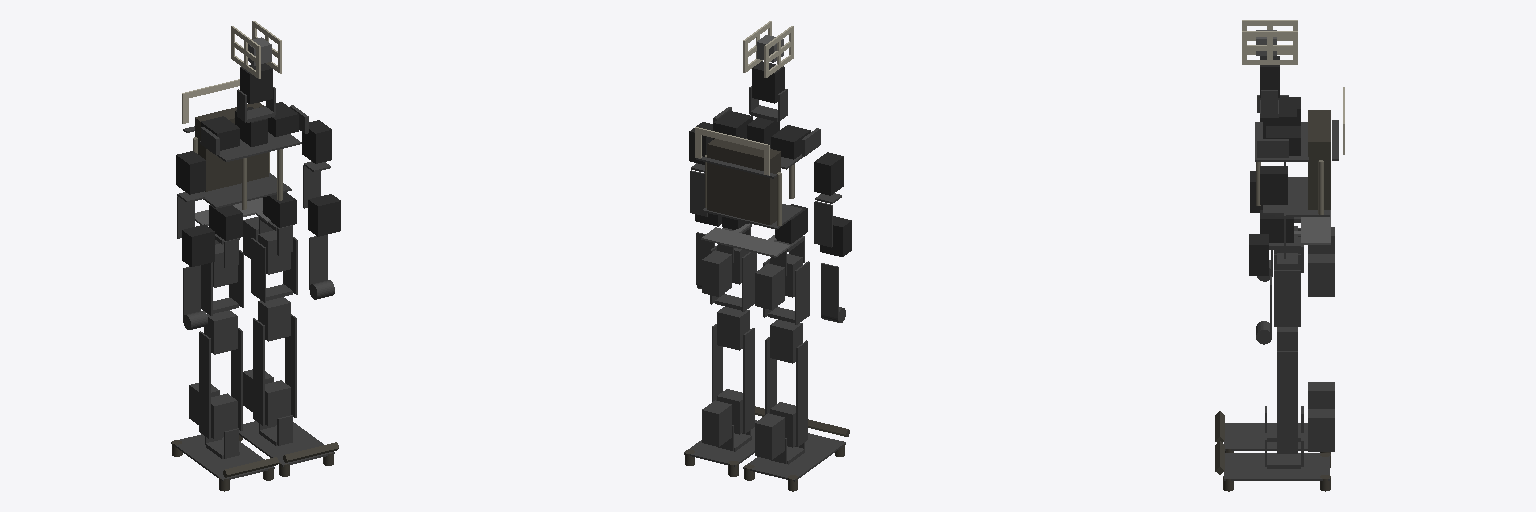
--- What the picture shows (computed from the rendered views, not written in the file) ---
3 views of the same robot in one strip: view 1: azimuth 30°, elevation 25°; view 2: azimuth 150°, elevation 25°; view 3: azimuth 270°, elevation 25° (orthographic).
Model onshape with 27 links and 26 joints (20 revolute, 6 floating), rooted at tronc, posed every joint at zero.
Visible links, largest first — view 1: tronc, right_foot_cleat_back_left, left_foot_cleat_front_right, left_knee_1, head_1, right_knee_1, left_radius_1, right_radius_1, tibia_2, tibia_1, right_humerus_1, left_humerus_1 (+6 smaller); view 2: tronc, right_foot_cleat_back_left, head_1, right_knee_1, left_knee_1, right_humerus_1, tibia_1, right_radius_1, tibia_2, mx106_block_1, mx106_block_mir_2, left_foot_cleat_front_right (+5 smaller); view 3: tronc, left_foot_cleat_front_right, head_1, tibia_2, left_knee_1, right_foot_cleat_back_left, mx106_block_2, left_humerus_1, left_radius_1, mx106_block_mir_2, mx106_block_1, u_shoulder_1.
Boxes of the visible links, <box> form: tronc: <box>182,79,301,240</box>; right_foot_cleat_back_left: <box>171,428,278,491</box>; left_foot_cleat_front_right: <box>239,415,338,476</box>; left_knee_1: <box>251,237,297,341</box>; head_1: <box>231,21,281,103</box>; right_knee_1: <box>201,250,243,354</box>; left_radius_1: <box>308,194,340,299</box>; right_radius_1: <box>182,224,214,329</box>; tibia_2: <box>253,314,296,425</box>; tibia_1: <box>199,328,242,438</box>; right_humerus_1: <box>176,151,205,238</box>; left_humerus_1: <box>302,120,331,208</box>; tronc: <box>695,111,810,257</box>; right_foot_cleat_back_left: <box>743,419,849,491</box>; head_1: <box>743,21,793,103</box>; right_knee_1: <box>763,258,809,363</box>; left_knee_1: <box>710,245,756,350</box>; right_humerus_1: <box>814,152,843,247</box>; tibia_1: <box>765,337,807,446</box>; right_radius_1: <box>820,216,851,322</box>; tibia_2: <box>712,324,754,433</box>; mx106_block_1: <box>755,402,795,459</box>; mx106_block_mir_2: <box>702,389,742,446</box>; left_foot_cleat_front_right: <box>684,406,764,476</box>; tronc: <box>1255,87,1344,244</box>; left_foot_cleat_front_right: <box>1215,433,1330,491</box>; head_1: <box>1242,20,1297,97</box>; tibia_2: <box>1277,351,1297,453</box>; left_knee_1: <box>1274,254,1300,350</box>; right_foot_cleat_back_left: <box>1215,406,1330,453</box>; mx106_block_2: <box>1277,253,1334,296</box>; left_humerus_1: <box>1260,166,1287,258</box>; left_radius_1: <box>1249,234,1271,344</box>; mx106_block_mir_2: <box>1308,409,1334,451</box>; mx106_block_1: <box>1308,382,1334,408</box>; u_shoulder_1: <box>1257,139,1288,157</box>.
Bounding box of the posed robot: 0.2576 × 0.1902 × 0.7061 m (x, y, z).
Geometry: primitives only (box / cylinder / sphere), no mesh files.

robot.urdf — onshape:
<robot name="onshape">
<link name="tronc">
<collision>
<origin xyz="-0.031 -0.054127 0.0909" rpy="1.80079e-24 -1.48609e-23 8.63328e-14" />
<geometry>
<cylinder length="0.086" radius="0.004" />
</geometry>
</collision>
<visual>
<origin xyz="-0.031 -0.054127 0.0909" rpy="1.80079e-24 -1.48609e-23 8.63328e-14" />
<geometry>
<cylinder length="0.086" radius="0.004" />
</geometry>
<material name="pillar_tube_material">
<color rgba="0.501961 0.486275 0.439216 1.0"/>
</material>
</visual>
<collision>
<origin xyz="-0.046375 -0.026254 0.02" rpy="3.14159 1.48613e-23 -3.14159" />
<geometry>
<box size="0.029 0.05 0.04" />
</geometry>
</collision>
<visual>
<origin xyz="-0.046375 -0.026254 0.02" rpy="3.14159 1.48613e-23 -3.14159" />
<geometry>
<box size="0.029 0.05 0.04" />
</geometry>
<material name="mx64_material">
<color rgba="0.211765 0.211765 0.211765 1.0"/>
</material>
</visual>
<collision>
<origin xyz="0.05 -0.017127 0.1609" rpy="-3.14159 -1.5708 0" />
<geometry>
<box size="0.029 0.05 0.04" />
</geometry>
</collision>
<visual>
<origin xyz="0.05 -0.017127 0.1609" rpy="-3.14159 -1.5708 0" />
<geometry>
<box size="0.029 0.05 0.04" />
</geometry>
<material name="mx64_material">
<color rgba="0.211765 0.211765 0.211765 1.0"/>
</material>
</visual>
<collision>
<origin xyz="0.046375 -0.026254 0.02" rpy="3.14159 1.48609e-23 -3.14159" />
<geometry>
<box size="0.029 0.05 0.04" />
</geometry>
</collision>
<visual>
<origin xyz="0.046375 -0.026254 0.02" rpy="3.14159 1.48609e-23 -3.14159" />
<geometry>
<box size="0.029 0.05 0.04" />
</geometry>
<material name="mx64_material">
<color rgba="0.211765 0.211765 0.211765 1.0"/>
</material>
</visual>
<collision>
<origin xyz="7.29591e-15 0.071323 0.1899" rpy="1.5708 1.5708 0" />
<geometry>
<box size="0.01 0.13 0.003" />
</geometry>
</collision>
<collision>
<origin xyz="-0.06 0.071323 0.1649" rpy="1.5708 1.5708 0" />
<geometry>
<box size="0.04 0.01 0.003" />
</geometry>
</collision>
<collision>
<origin xyz="0.06 0.071323 0.1649" rpy="1.5708 1.5708 0" />
<geometry>
<box size="0.04 0.01 0.003" />
</geometry>
</collision>
<visual>
<origin xyz="7.29591e-15 0.071323 0.1899" rpy="1.5708 1.5708 0" />
<geometry>
<box size="0.01 0.13 0.003" />
</geometry>
<material name="handle_material">
<color rgba="0.701961 0.682353 0.623529 1.0"/>
</material>
</visual>
<visual>
<origin xyz="-0.06 0.071323 0.1649" rpy="1.5708 1.5708 0" />
<geometry>
<box size="0.04 0.01 0.003" />
</geometry>
<material name="handle_material">
<color rgba="0.701961 0.682353 0.623529 1.0"/>
</material>
</visual>
<visual>
<origin xyz="0.06 0.071323 0.1649" rpy="1.5708 1.5708 0" />
<geometry>
<box size="0.04 0.01 0.003" />
</geometry>
<material name="handle_material">
<color rgba="0.701961 0.682353 0.623529 1.0"/>
</material>
</visual>
<collision>
<origin xyz="0.0625 0.037873 0.0909" rpy="-3.14159 -1.48609e-23 8.63328e-14" />
<geometry>
<cylinder length="0.086" radius="0.004" />
</geometry>
</collision>
<visual>
<origin xyz="0.0625 0.037873 0.0909" rpy="-3.14159 -1.48609e-23 8.63328e-14" />
<geometry>
<cylinder length="0.086" radius="0.004" />
</geometry>
<material name="pillar_tube_material">
<color rgba="0.501961 0.486275 0.439216 1.0"/>
</material>
</visual>
<collision>
<origin xyz="-0.0505868 -0.017127 0.1609" rpy="3.14159 1.5708 0" />
<geometry>
<box size="0.029 0.05 0.04" />
</geometry>
</collision>
<visual>
<origin xyz="-0.0505868 -0.017127 0.1609" rpy="3.14159 1.5708 0" />
<geometry>
<box size="0.029 0.05 0.04" />
</geometry>
<material name="mx64_material">
<color rgba="0.211765 0.211765 0.211765 1.0"/>
</material>
</visual>
<collision>
<origin xyz="1.52206e-14 -0.019127 0.1354" rpy="3.14159 1.48609e-23 -3.14159" />
<geometry>
<box size="0.13 0.08 0.003" />
</geometry>
</collision>
<visual>
<origin xyz="1.52206e-14 -0.019127 0.1354" rpy="3.14159 1.48609e-23 -3.14159" />
<geometry>
<box size="0.13 0.08 0.003" />
</geometry>
<material name="torso_top_plate_nuc_material">
<color rgba="0.301961 0.301961 0.301961 1.0"/>
</material>
</visual>
<collision>
<origin xyz="1.27053e-14 0.010373 0.0469" rpy="1.78736e-24 -1.48609e-23 8.63328e-14" />
<geometry>
<box size="0.13 0.08 0.003" />
</geometry>
</collision>
<visual>
<origin xyz="1.27053e-14 0.010373 0.0469" rpy="1.78736e-24 -1.48609e-23 8.63328e-14" />
<geometry>
<box size="0.13 0.08 0.003" />
</geometry>
<material name="torso_middle_plate_nuc_material">
<color rgba="0.301961 0.301961 0.301961 1.0"/>
</material>
</visual>
<collision>
<origin xyz="-0.0625 0.037873 0.0909" rpy="1.80079e-24 -1.48609e-23 8.63328e-14" />
<geometry>
<cylinder length="0.086" radius="0.004" />
</geometry>
</collision>
<visual>
<origin xyz="-0.0625 0.037873 0.0909" rpy="1.80079e-24 -1.48609e-23 8.63328e-14" />
<geometry>
<cylinder length="0.086" radius="0.004" />
</geometry>
<material name="pillar_tube_material">
<color rgba="0.501961 0.486275 0.439216 1.0"/>
</material>
</visual>
<collision>
<origin xyz="1.24036e-14 0.035873 0.10615" rpy="1.5708 1.48609e-23 -3.14159" />
<geometry>
<box size="0.11 0.11 0.033" />
</geometry>
</collision>
<visual>
<origin xyz="1.24036e-14 0.035873 0.10615" rpy="1.5708 1.48609e-23 -3.14159" />
<geometry>
<box size="0.11 0.11 0.033" />
</geometry>
<material name="nuc_material">
<color rgba="0.301961 0.290196 0.262745 1.0"/>
</material>
</visual>
<collision>
<origin xyz="2.07506e-14 0.031123 0.00149996" rpy="-1.88432e-18 -5.37577e-17 8.62212e-14" />
<geometry>
<box size="0.13 0.044 0.003" />
</geometry>
</collision>
<collision>
<origin xyz="-0.03 -0.007877 0.00149996" rpy="-1.88432e-18 -5.37577e-17 8.62212e-14" />
<geometry>
<box size="0.01 0.035 0.003" />
</geometry>
</collision>
<collision>
<origin xyz="0.03 -0.007877 0.00149996" rpy="-1.88432e-18 -5.37577e-17 8.62212e-14" />
<geometry>
<box size="0.01 0.035 0.003" />
</geometry>
</collision>
<visual>
<origin xyz="2.07506e-14 0.031123 0.00149996" rpy="-1.88432e-18 -5.37577e-17 8.62212e-14" />
<geometry>
<box size="0.13 0.044 0.003" />
</geometry>
<material name="torso_bottom_plate_nuc_material">
<color rgba="0.4 0.4 0.4 1.0"/>
</material>
</visual>
<visual>
<origin xyz="-0.03 -0.007877 0.00149996" rpy="-1.88432e-18 -5.37577e-17 8.62212e-14" />
<geometry>
<box size="0.01 0.035 0.003" />
</geometry>
<material name="torso_bottom_plate_nuc_material">
<color rgba="0.4 0.4 0.4 1.0"/>
</material>
</visual>
<visual>
<origin xyz="0.03 -0.007877 0.00149996" rpy="-1.88432e-18 -5.37577e-17 8.62212e-14" />
<geometry>
<box size="0.01 0.035 0.003" />
</geometry>
<material name="torso_bottom_plate_nuc_material">
<color rgba="0.4 0.4 0.4 1.0"/>
</material>
</visual>
<collision>
<origin xyz="8.35455e-15 0.059373 0.1384" rpy="-3.14159 1.79405e-24 -1.5708" />
<geometry>
<box size="0.01 0.135 0.003" />
</geometry>
</collision>
<visual>
<origin xyz="8.35455e-15 0.059373 0.1384" rpy="-3.14159 1.79405e-24 -1.5708" />
<geometry>
<box size="0.01 0.135 0.003" />
</geometry>
<material name="nuc_fix_material">
<color rgba="0.301961 0.301961 0.301961 1.0"/>
</material>
</visual>
<collision>
<origin xyz="2.55418e-14 -0.022127 0.1623" rpy="1.12133e-14 -2.28241e-15 -3.14159" />
<geometry>
<box size="0.029 0.05 0.04" />
</geometry>
</collision>
<visual>
<origin xyz="2.55418e-14 -0.022127 0.1623" rpy="1.12133e-14 -2.28241e-15 -3.14159" />
<geometry>
<box size="0.029 0.05 0.04" />
</geometry>
<material name="mx64_material">
<color rgba="0.211765 0.211765 0.211765 1.0"/>
</material>
</visual>
<collision>
<origin xyz="0.031 -0.054127 0.0914" rpy="1.80079e-24 -1.48609e-23 8.63328e-14" />
<geometry>
<cylinder length="0.086" radius="0.004" />
</geometry>
</collision>
<visual>
<origin xyz="0.031 -0.054127 0.0914" rpy="1.80079e-24 -1.48609e-23 8.63328e-14" />
<geometry>
<cylinder length="0.086" radius="0.004" />
</geometry>
<material name="pillar_tube_material">
<color rgba="0.501961 0.486275 0.439216 1.0"/>
</material>
</visual>
<inertial>
<origin xyz="0.000185565 0.00052958 0.0922428" rpy="0 0 0"/>
<mass value="1.75912" />
<inertia ixx="0.00823896" ixy="2.57494e-06"  ixz="1.9734e-05" iyy="0.00915867" iyz="-0.000169433" izz="0.00511156" />
</inertial>
</link>

<link name="trunk">
<inertial>
<origin xyz="0 0 0" rpy="0 0 0" />
<mass value="1e-9" />
<inertia ixx="0" ixy="0" ixz="0" iyy="0" iyz="0" izz="0" />
</inertial>
</link>
<joint name="trunk_frame" type="floating">
<origin xyz="2.43796e-14 -0.011254 -0.0435" rpy="-5.7251e-17 -1.88432e-18 -1.5708" />
<parent link="tronc" />
<child link="trunk" />
<axis xyz="0 0 0"/>
</joint>

<link name="head_base">
<inertial>
<origin xyz="0 0 0" rpy="0 0 0" />
<mass value="1e-9" />
<inertia ixx="0" ixy="0" ixz="0" iyy="0" iyz="0" izz="0" />
</inertial>
</link>
<joint name="head_base_frame" type="floating">
<origin xyz="2.67832e-14 -0.037127 0.1858" rpy="2.77556e-17 1.38778e-17 -1.5708" />
<parent link="tronc" />
<child link="head_base" />
<axis xyz="0 0 0"/>
</joint>

<link name="u_block_1">
<collision>
<origin xyz="-0.00494 0 0.003" rpy="-7.30373e-33 3.5853e-41 -3.12137e-42" />
<geometry>
<box size="0.05 0.03 0.006" />
</geometry>
</collision>
<visual>
<origin xyz="-0.00494 0 0.003" rpy="-7.30373e-33 3.5853e-41 -3.12137e-42" />
<geometry>
<box size="0.05 0.03 0.006" />
</geometry>
<material name="u_base_motors_blocs_material">
<color rgba="0.301961 0.301961 0.301961 1.0"/>
</material>
</visual>
<collision>
<origin xyz="-0.03144 3.46945e-17 0.023" rpy="1.5708 -9.35682e-17 1.5708" />
<geometry>
<box size="0.025 0.044 0.003" />
</geometry>
</collision>
<visual>
<origin xyz="-0.03144 3.46945e-17 0.023" rpy="1.5708 -9.35682e-17 1.5708" />
<geometry>
<box size="0.025 0.044 0.003" />
</geometry>
<material name="u_side_small_material">
<color rgba="0.301961 0.301961 0.301961 1.0"/>
</material>
</visual>
<collision>
<origin xyz="0.0219 -4.33681e-17 0.023" rpy="1.5708 -3.9526e-17 -1.5708" />
<geometry>
<box size="0.027 0.042 0.003" />
</geometry>
</collision>
<visual>
<origin xyz="0.0219 -4.33681e-17 0.023" rpy="1.5708 -3.9526e-17 -1.5708" />
<geometry>
<box size="0.027 0.042 0.003" />
</geometry>
<material name="u_side_small_with_trace_material">
<color rgba="0.301961 0.301961 0.301961 1.0"/>
</material>
</visual>
<inertial>
<origin xyz="-0.00607049 2.12569e-09 0.0117654" rpy="0 0 0"/>
<mass value="0.0354404" />
<inertia ixx="6.0236e-06" ixy="-2.05966e-08"  ixz="7.97442e-07" iyy="2.4343e-05" iyz="-8.88603e-13" izz="2.1328e-05" />
</inertial>
</link>

<link name="mx106_block_mir_1">
<collision>
<origin xyz="-1.72422e-14 -0.015 0.0234" rpy="2.89425e-13 -1.5708 0" />
<geometry>
<box size="0.03 0.055 0.04" />
</geometry>
</collision>
<visual>
<origin xyz="-1.72422e-14 -0.015 0.0234" rpy="2.89425e-13 -1.5708 0" />
<geometry>
<box size="0.03 0.055 0.04" />
</geometry>
<material name="mx106_material">
<color rgba="0.301961 0.301961 0.301961 1.0"/>
</material>
</visual>
<collision>
<origin xyz="2.74835e-31 -0.015 -0.026" rpy="-1.68105e-40 3.81268e-29 -1.37931e-29" />
<geometry>
<box size="0.03 0.055 0.04" />
</geometry>
</collision>
<visual>
<origin xyz="2.74835e-31 -0.015 -0.026" rpy="-1.68105e-40 3.81268e-29 -1.37931e-29" />
<geometry>
<box size="0.03 0.055 0.04" />
</geometry>
<material name="mx106_material">
<color rgba="0.301961 0.301961 0.301961 1.0"/>
</material>
</visual>
<inertial>
<origin xyz="-0.000304417 -0.018098 0.00391715" rpy="0 0 0"/>
<mass value="0.427481" />
<inertia ixx="0.000482208" ixy="-1.57792e-05"  ixz="3.50396e-06" iyy="0.000408392" iyz="-3.68837e-05" izz="0.000203671" />
</inertial>
</link>

<link name="right_knee_1">
<collision>
<origin xyz="1.04229e-16 -0.0395 0.0535" rpy="4.996e-16 -2.77556e-16 1.32533e-15" />
<geometry>
<box size="0.04 0.09 0.003" />
</geometry>
</collision>
<visual>
<origin xyz="1.04229e-16 -0.0395 0.0535" rpy="4.996e-16 -2.77556e-16 1.32533e-15" />
<geometry>
<box size="0.04 0.09 0.003" />
</geometry>
<material name="u_side_femur_mir_material">
<color rgba="0.301961 0.301961 0.301961 1.0"/>
</material>
</visual>
<collision>
<origin xyz="2.53143e-14 -0.125 0.026" rpy="-3.14159 -1.81887e-16 4.5397e-13" />
<geometry>
<box size="0.03 0.055 0.04" />
</geometry>
</collision>
<visual>
<origin xyz="2.53143e-14 -0.125 0.026" rpy="-3.14159 -1.81887e-16 4.5397e-13" />
<geometry>
<box size="0.03 0.055 0.04" />
</geometry>
<material name="mx106_material">
<color rgba="0.301961 0.301961 0.301961 1.0"/>
</material>
</visual>
<collision>
<origin xyz="4.15808e-32 -0.0395 -0.0015" rpy="-3.64812e-34 3.52046e-29 -2.74809e-32" />
<geometry>
<box size="0.04 0.09 0.003" />
</geometry>
</collision>
<visual>
<origin xyz="4.15808e-32 -0.0395 -0.0015" rpy="-3.64812e-34 3.52046e-29 -2.74809e-32" />
<geometry>
<box size="0.04 0.09 0.003" />
</geometry>
<material name="u_side_femur_material">
<color rgba="0.301961 0.301961 0.301961 1.0"/>
</material>
</visual>
<collision>
<origin xyz="3.71606e-16 -0.0825 0.026" rpy="-1.5708 1.5708 0" />
<geometry>
<box size="0.047 0.0275 0.006" />
</geometry>
</collision>
<visual>
<origin xyz="3.71606e-16 -0.0825 0.026" rpy="-1.5708 1.5708 0" />
<geometry>
<box size="0.047 0.0275 0.006" />
</geometry>
<material name="u_base_64_material">
<color rgba="0.301961 0.301961 0.301961 1.0"/>
</material>
</visual>
<inertial>
<origin xyz="0.000224336 -0.0980339 0.0257133" rpy="0 0 0"/>
<mass value="0.269758" />
<inertia ixx="0.000503595" ixy="9.05865e-07"  ixz="-4.56779e-07" iyy="0.000109941" iyz="-5.72119e-06" izz="0.000438644" />
</inertial>
</link>

<link name="tibia_1">
<collision>
<origin xyz="-1.50984e-32 -0.067 0.0015" rpy="0 2.39826e-29 0" />
<geometry>
<box size="0.03 0.165 0.003" />
</geometry>
</collision>
<visual>
<origin xyz="-1.50984e-32 -0.067 0.0015" rpy="0 2.39826e-29 0" />
<geometry>
<box size="0.03 0.165 0.003" />
</geometry>
<material name="tibia_plate_material">
<color rgba="0.301961 0.301961 0.301961 1.0"/>
</material>
</visual>
<collision>
<origin xyz="5.06057e-18 -0.067 -0.0535" rpy="1.66533e-15 3.60822e-16 -1.11022e-16" />
<geometry>
<box size="0.03 0.165 0.003" />
</geometry>
</collision>
<visual>
<origin xyz="5.06057e-18 -0.067 -0.0535" rpy="1.66533e-15 3.60822e-16 -1.11022e-16" />
<geometry>
<box size="0.03 0.165 0.003" />
</geometry>
<material name="tibia_plate_material">
<color rgba="0.301961 0.301961 0.301961 1.0"/>
</material>
</visual>
<inertial>
<origin xyz="-0.00342169 -0.0646068 -0.026" rpy="0 0 0"/>
<mass value="0.0888437" />
<inertia ixx="0.000245247" ixy="6.12719e-06"  ixz="-1.44286e-11" iyy="7.67255e-05" iyz="3.8066e-11" izz="0.000187463" />
</inertial>
</link>

<link name="mx106_block_1">
<collision>
<origin xyz="1.63291e-31 -0.015 -0.026" rpy="4.45602e-32 -1.04974e-29 -5.28557e-30" />
<geometry>
<box size="0.03 0.055 0.04" />
</geometry>
</collision>
<visual>
<origin xyz="1.63291e-31 -0.015 -0.026" rpy="4.45602e-32 -1.04974e-29 -5.28557e-30" />
<geometry>
<box size="0.03 0.055 0.04" />
</geometry>
<material name="mx106_material">
<color rgba="0.301961 0.301961 0.301961 1.0"/>
</material>
</visual>
<collision>
<origin xyz="0.0494 -0.015 -0.026" rpy="7.80481e-16 -1.5708 0" />
<geometry>
<box size="0.03 0.055 0.04" />
</geometry>
</collision>
<visual>
<origin xyz="0.0494 -0.015 -0.026" rpy="7.80481e-16 -1.5708 0" />
<geometry>
<box size="0.03 0.055 0.04" />
</geometry>
<material name="mx106_material">
<color rgba="0.301961 0.301961 0.301961 1.0"/>
</material>
</visual>
<inertial>
<origin xyz="0.0195884 -0.018098 -0.0258252" rpy="0 0 0"/>
<mass value="0.427481" />
<inertia ixx="0.000194682" ixy="1.88861e-05"  ixz="4.22317e-07" iyy="0.000410191" iyz="-2.22493e-06" izz="0.000485925" />
</inertial>
</link>

<link name="right_foot_cleat_back_left">
<collision>
<origin xyz="-0.0435 -0.05 -0.03213" rpy="-1.5708 0.199727 3.14159" />
<geometry>
<cylinder length="0.02" radius="0.008" />
</geometry>
</collision>
<visual>
<origin xyz="-0.0435 -0.05 -0.03213" rpy="-1.5708 0.199727 3.14159" />
<geometry>
<cylinder length="0.02" radius="0.008" />
</geometry>
<material name="cleat_material">
<color rgba="0.301961 0.290196 0.262745 1.0"/>
</material>
</visual>
<collision>
<origin xyz="-0.0435 -0.05 0.10947" rpy="-1.5708 0.199727 3.14159" />
<geometry>
<cylinder length="0.02" radius="0.008" />
</geometry>
</collision>
<visual>
<origin xyz="-0.0435 -0.05 0.10947" rpy="-1.5708 0.199727 3.14159" />
<geometry>
<cylinder length="0.02" radius="0.008" />
</geometry>
<material name="cleat_material">
<color rgba="0.301961 0.290196 0.262745 1.0"/>
</material>
</visual>
<collision>
<origin xyz="6.76542e-17 -0.017 0.05484" rpy="-3.14159 -2.42855e-17 3.14159" />
<geometry>
<box size="0.025 0.044 0.003" />
</geometry>
</collision>
<visual>
<origin xyz="6.76542e-17 -0.017 0.05484" rpy="-3.14159 -2.42855e-17 3.14159" />
<geometry>
<box size="0.025 0.044 0.003" />
</geometry>
<material name="u_side_small_material">
<color rgba="0.301961 0.301961 0.301961 1.0"/>
</material>
</visual>
<collision>
<origin xyz="0.0325 -0.05 0.10947" rpy="1.5708 0.555221 -2.37021e-15" />
<geometry>
<cylinder length="0.02" radius="0.008" />
</geometry>
</collision>
<visual>
<origin xyz="0.0325 -0.05 0.10947" rpy="1.5708 0.555221 -2.37021e-15" />
<geometry>
<cylinder length="0.02" radius="0.008" />
</geometry>
<material name="cleat_material">
<color rgba="0.301961 0.290196 0.262745 1.0"/>
</material>
</visual>
<collision>
<origin xyz="-0.0055 -0.0415 0.03867" rpy="1.5708 -2.34865e-17 3.14159" />
<geometry>
<box size="0.09 0.155 0.003" />
</geometry>
</collision>
<visual>
<origin xyz="-0.0055 -0.0415 0.03867" rpy="1.5708 -2.34865e-17 3.14159" />
<geometry>
<box size="0.09 0.155 0.003" />
</geometry>
<material name="foot_plate_material">
<color rgba="0.301961 0.301961 0.301961 1.0"/>
</material>
</visual>
<collision>
<origin xyz="6.93889e-18 -0.017 0.0015" rpy="-1.36882e-30 1.1038e-29 2.36811e-31" />
<geometry>
<box size="0.027 0.042 0.003" />
</geometry>
</collision>
<visual>
<origin xyz="6.93889e-18 -0.017 0.0015" rpy="-1.36882e-30 1.1038e-29 2.36811e-31" />
<geometry>
<box size="0.027 0.042 0.003" />
</geometry>
<material name="u_side_small_with_trace_material">
<color rgba="0.301961 0.301961 0.301961 1.0"/>
</material>
</visual>
<collision>
<origin xyz="0.0325 -0.05 -0.03213" rpy="1.5708 -0.311457 -2.11626e-15" />
<geometry>
<cylinder length="0.02" radius="0.008" />
</geometry>
</collision>
<visual>
<origin xyz="0.0325 -0.05 -0.03213" rpy="1.5708 -0.311457 -2.11626e-15" />
<geometry>
<cylinder length="0.02" radius="0.008" />
</geometry>
<material name="cleat_material">
<color rgba="0.301961 0.290196 0.262745 1.0"/>
</material>
</visual>
<collision>
<origin xyz="-0.0055 -0.0275 0.12247" rpy="3.14159 0.785398 -1.5708" />
<geometry>
<box size="0.01 0.09 0.01" />
</geometry>
</collision>
<visual>
<origin xyz="-0.0055 -0.0275 0.12247" rpy="3.14159 0.785398 -1.5708" />
<geometry>
<box size="0.01 0.09 0.01" />
</geometry>
<material name="foot_protection_material">
<color rgba="0.301961 0.290196 0.262745 1.0"/>
</material>
</visual>
<collision>
<origin xyz="1.73472e-17 -0.037 0.02834" rpy="-1.5708 1.5708 0" />
<geometry>
<box size="0.05 0.03 0.006" />
</geometry>
</collision>
<visual>
<origin xyz="1.73472e-17 -0.037 0.02834" rpy="-1.5708 1.5708 0" />
<geometry>
<box size="0.05 0.03 0.006" />
</geometry>
<material name="u_base_motors_blocs_material">
<color rgba="0.301961 0.301961 0.301961 1.0"/>
</material>
</visual>
<inertial>
<origin xyz="-0.00468466 -0.0365779 0.0511529" rpy="0 0 0"/>
<mass value="0.239067" />
<inertia ixx="0.000644736" ixy="-2.73076e-06"  ixz="4.22638e-06" iyy="0.000780875" iyz="-2.65367e-05" izz="0.000195711" />
</inertial>
</link>

<link name="right_foot">
<inertial>
<origin xyz="0 0 0" rpy="0 0 0" />
<mass value="1e-9" />
<inertia ixx="0" ixy="0" ixz="0" iyy="0" iyz="0" izz="0" />
</inertial>
</link>
<joint name="right_foot_frame" type="floating">
<origin xyz="-5.55112e-17 -0.06 0.02317" rpy="-1.5708 -1.5708 0" />
<parent link="right_foot_cleat_back_left" />
<child link="right_foot" />
<axis xyz="0 0 0"/>
</joint>

<joint name="right_ankle_roll" type="revolute">
<origin xyz="0.0234 -4.55191e-15 -0.026" rpy="3.14159 1.5708 0" />
<parent link="mx106_block_1" />
<child link="right_foot_cleat_back_left" />
<axis xyz="-0 -0 1"/>
<limit effort="10" velocity="6" />
<joint_properties friction="0.0"/>
</joint>

<joint name="right_ankle_pitch" type="revolute">
<origin xyz="1.38778e-17 -0.14 0" rpy="-1.83187e-15 -2.77556e-16 3.14159" />
<parent link="tibia_1" />
<child link="mx106_block_1" />
<axis xyz="-0 -0 -1"/>
<limit effort="10" velocity="6" />
<joint_properties friction="0.0"/>
</joint>

<joint name="right_knee" type="revolute">
<origin xyz="3.21514e-14 -0.14 3.60822e-16" rpy="3.14159 -3.36029e-16 -3.14159" />
<parent link="right_knee_1" />
<child link="tibia_1" />
<axis xyz="0 0 -1"/>
<limit effort="10" velocity="6" />
<joint_properties friction="0.0"/>
</joint>

<joint name="right_hip_pitch" type="revolute">
<origin xyz="-0.026 -1.04222e-14 0.0234" rpy="-2.8919e-13 1.5708 0" />
<parent link="mx106_block_mir_1" />
<child link="right_knee_1" />
<axis xyz="0 0 1"/>
<limit effort="10" velocity="6" />
<joint_properties friction="0.0"/>
</joint>

<joint name="right_hip_roll" type="revolute">
<origin xyz="0.0234 -3.46945e-17 0.04" rpy="-1.5708 -2.89657e-13 1.5708" />
<parent link="u_block_1" />
<child link="mx106_block_mir_1" />
<axis xyz="0 0 1"/>
<limit effort="10" velocity="6" />
<joint_properties friction="0.0"/>
</joint>

<joint name="right_hip_yaw" type="revolute">
<origin xyz="-0.046375 -0.011254 -0.00350004" rpy="3.14159 -1.79404e-24 1.5708" />
<parent link="tronc" />
<child link="u_block_1" />
<axis xyz="0 0 -1"/>
<limit effort="10" velocity="6" />
<joint_properties friction="0.0"/>
</joint>

<link name="u_block_2">
<collision>
<origin xyz="-0.00494 -6.93889e-18 0.003" rpy="1.37852e-32 -3.18039e-32 -6.12454e-30" />
<geometry>
<box size="0.05 0.03 0.006" />
</geometry>
</collision>
<visual>
<origin xyz="-0.00494 -6.93889e-18 0.003" rpy="1.37852e-32 -3.18039e-32 -6.12454e-30" />
<geometry>
<box size="0.05 0.03 0.006" />
</geometry>
<material name="u_base_motors_blocs_material">
<color rgba="0.301961 0.301961 0.301961 1.0"/>
</material>
</visual>
<collision>
<origin xyz="0.0219 -5.20417e-18 0.023" rpy="1.5708 1.91186e-17 -1.5708" />
<geometry>
<box size="0.027 0.042 0.003" />
</geometry>
</collision>
<visual>
<origin xyz="0.0219 -5.20417e-18 0.023" rpy="1.5708 1.91186e-17 -1.5708" />
<geometry>
<box size="0.027 0.042 0.003" />
</geometry>
<material name="u_side_small_with_trace_material">
<color rgba="0.301961 0.301961 0.301961 1.0"/>
</material>
</visual>
<collision>
<origin xyz="-0.03144 -6.93889e-18 0.023" rpy="1.5708 6.60998e-17 1.5708" />
<geometry>
<box size="0.025 0.044 0.003" />
</geometry>
</collision>
<visual>
<origin xyz="-0.03144 -6.93889e-18 0.023" rpy="1.5708 6.60998e-17 1.5708" />
<geometry>
<box size="0.025 0.044 0.003" />
</geometry>
<material name="u_side_small_material">
<color rgba="0.301961 0.301961 0.301961 1.0"/>
</material>
</visual>
<inertial>
<origin xyz="-0.00607049 2.12569e-09 0.0117654" rpy="0 0 0"/>
<mass value="0.0354404" />
<inertia ixx="6.0236e-06" ixy="-2.05966e-08"  ixz="7.97442e-07" iyy="2.4343e-05" iyz="-8.88603e-13" izz="2.1328e-05" />
</inertial>
</link>

<link name="mx106_block_2">
<collision>
<origin xyz="-6.93889e-18 -0.015 -0.026" rpy="-3.62267e-32 -6.45673e-30 -2.33386e-29" />
<geometry>
<box size="0.03 0.055 0.04" />
</geometry>
</collision>
<visual>
<origin xyz="-6.93889e-18 -0.015 -0.026" rpy="-3.62267e-32 -6.45673e-30 -2.33386e-29" />
<geometry>
<box size="0.03 0.055 0.04" />
</geometry>
<material name="mx106_material">
<color rgba="0.301961 0.301961 0.301961 1.0"/>
</material>
</visual>
<collision>
<origin xyz="-1.72918e-14 -0.015 0.0234" rpy="-2.88049e-13 1.5708 0" />
<geometry>
<box size="0.03 0.055 0.04" />
</geometry>
</collision>
<visual>
<origin xyz="-1.72918e-14 -0.015 0.0234" rpy="-2.88049e-13 1.5708 0" />
<geometry>
<box size="0.03 0.055 0.04" />
</geometry>
<material name="mx106_material">
<color rgba="0.301961 0.301961 0.301961 1.0"/>
</material>
</visual>
<inertial>
<origin xyz="0.000174774 -0.018098 0.0038116" rpy="0 0 0"/>
<mass value="0.427481" />
<inertia ixx="0.000480875" ixy="1.44566e-05"  ixz="-4.949e-07" iyy="0.000406226" iyz="-3.86323e-05" izz="0.000203698" />
</inertial>
</link>

<link name="left_knee_1">
<collision>
<origin xyz="6.2117e-17 -0.0825 0.026" rpy="-1.5708 1.5708 0" />
<geometry>
<box size="0.047 0.0275 0.006" />
</geometry>
</collision>
<visual>
<origin xyz="6.2117e-17 -0.0825 0.026" rpy="-1.5708 1.5708 0" />
<geometry>
<box size="0.047 0.0275 0.006" />
</geometry>
<material name="u_base_64_material">
<color rgba="0.301961 0.301961 0.301961 1.0"/>
</material>
</visual>
<collision>
<origin xyz="1.73472e-18 -0.0395 -0.0015" rpy="4.35316e-32 2.13064e-30 1.27058e-31" />
<geometry>
<box size="0.04 0.09 0.003" />
</geometry>
</collision>
<visual>
<origin xyz="1.73472e-18 -0.0395 -0.0015" rpy="4.35316e-32 2.13064e-30 1.27058e-31" />
<geometry>
<box size="0.04 0.09 0.003" />
</geometry>
<material name="u_side_femur_material">
<color rgba="0.301961 0.301961 0.301961 1.0"/>
</material>
</visual>
<collision>
<origin xyz="4.36598e-17 -0.0395 0.0535" rpy="3.26957e-16 3.59516e-17 5.14922e-16" />
<geometry>
<box size="0.04 0.09 0.003" />
</geometry>
</collision>
<visual>
<origin xyz="4.36598e-17 -0.0395 0.0535" rpy="3.26957e-16 3.59516e-17 5.14922e-16" />
<geometry>
<box size="0.04 0.09 0.003" />
</geometry>
<material name="u_side_femur_mir_material">
<color rgba="0.301961 0.301961 0.301961 1.0"/>
</material>
</visual>
<collision>
<origin xyz="-2.4828e-14 -0.125 0.026" rpy="-3.14159 2.98198e-16 -4.53605e-13" />
<geometry>
<box size="0.03 0.055 0.04" />
</geometry>
</collision>
<visual>
<origin xyz="-2.4828e-14 -0.125 0.026" rpy="-3.14159 2.98198e-16 -4.53605e-13" />
<geometry>
<box size="0.03 0.055 0.04" />
</geometry>
<material name="mx106_material">
<color rgba="0.301961 0.301961 0.301961 1.0"/>
</material>
</visual>
<inertial>
<origin xyz="-5.70809e-05 -0.0980339 0.0255274" rpy="0 0 0"/>
<mass value="0.269758" />
<inertia ixx="0.000503557" ixy="1.64719e-06"  ixz="-5.01987e-07" iyy="0.000109916" iyz="-5.37384e-06" izz="0.000438656" />
</inertial>
</link>

<link name="tibia_2">
<collision>
<origin xyz="-5.58374e-31 -0.067 -0.0015" rpy="-4.50026e-32 -6.77291e-30 4.57972e-31" />
<geometry>
<box size="0.03 0.165 0.003" />
</geometry>
</collision>
<visual>
<origin xyz="-5.58374e-31 -0.067 -0.0015" rpy="-4.50026e-32 -6.77291e-30 4.57972e-31" />
<geometry>
<box size="0.03 0.165 0.003" />
</geometry>
<material name="tibia_plate_material">
<color rgba="0.301961 0.301961 0.301961 1.0"/>
</material>
</visual>
<collision>
<origin xyz="2.23209e-16 -0.067 0.0535" rpy="-9.24302e-16 1.29393e-16 -3.04496e-16" />
<geometry>
<box size="0.03 0.165 0.003" />
</geometry>
</collision>
<visual>
<origin xyz="2.23209e-16 -0.067 0.0535" rpy="-9.24302e-16 1.29393e-16 -3.04496e-16" />
<geometry>
<box size="0.03 0.165 0.003" />
</geometry>
<material name="tibia_plate_material">
<color rgba="0.301961 0.301961 0.301961 1.0"/>
</material>
</visual>
<inertial>
<origin xyz="-0.00342169 -0.0646068 0.026" rpy="0 0 0"/>
<mass value="0.0888437" />
<inertia ixx="0.000245247" ixy="6.12719e-06"  ixz="-1.44286e-11" iyy="7.67255e-05" iyz="3.8066e-11" izz="0.000187463" />
</inertial>
</link>

<link name="mx106_block_mir_2">
<collision>
<origin xyz="1.73472e-18 -0.015 -0.026" rpy="0 1.07112e-29 -5.04871e-29" />
<geometry>
<box size="0.03 0.055 0.04" />
</geometry>
</collision>
<visual>
<origin xyz="1.73472e-18 -0.015 -0.026" rpy="0 1.07112e-29 -5.04871e-29" />
<geometry>
<box size="0.03 0.055 0.04" />
</geometry>
<material name="mx106_material">
<color rgba="0.301961 0.301961 0.301961 1.0"/>
</material>
</visual>
<collision>
<origin xyz="-0.0494 -0.015 -0.026" rpy="-4.54893e-13 1.5708 0" />
<geometry>
<box size="0.03 0.055 0.04" />
</geometry>
</collision>
<visual>
<origin xyz="-0.0494 -0.015 -0.026" rpy="-4.54893e-13 1.5708 0" />
<geometry>
<box size="0.03 0.055 0.04" />
</geometry>
<material name="mx106_material">
<color rgba="0.301961 0.301961 0.301961 1.0"/>
</material>
</visual>
<inertial>
<origin xyz="-0.0194829 -0.018098 -0.0256956" rpy="0 0 0"/>
<mass value="0.427481" />
<inertia ixx="0.000194261" ixy="-2.04803e-05"  ixz="-3.71621e-06" iyy="0.000412323" iyz="-3.98084e-06" izz="0.000487688" />
</inertial>
</link>

<link name="left_foot_cleat_front_right">
<collision>
<origin xyz="0.0055 -0.0275 0.12247" rpy="-3.14159 0.785398 -1.5708" />
<geometry>
<box size="0.01 0.09 0.01" />
</geometry>
</collision>
<visual>
<origin xyz="0.0055 -0.0275 0.12247" rpy="-3.14159 0.785398 -1.5708" />
<geometry>
<box size="0.01 0.09 0.01" />
</geometry>
<material name="foot_protection_material">
<color rgba="0.301961 0.290196 0.262745 1.0"/>
</material>
</visual>
<collision>
<origin xyz="0.0435 -0.05 -0.03213" rpy="-1.5708 0.480536 3.14159" />
<geometry>
<cylinder length="0.02" radius="0.008" />
</geometry>
</collision>
<visual>
<origin xyz="0.0435 -0.05 -0.03213" rpy="-1.5708 0.480536 3.14159" />
<geometry>
<cylinder length="0.02" radius="0.008" />
</geometry>
<material name="cleat_material">
<color rgba="0.301961 0.290196 0.262745 1.0"/>
</material>
</visual>
<collision>
<origin xyz="-8.32667e-17 -0.017 0.05484" rpy="-3.14159 -3.72098e-16 -3.14159" />
<geometry>
<box size="0.025 0.044 0.003" />
</geometry>
</collision>
<visual>
<origin xyz="-8.32667e-17 -0.017 0.05484" rpy="-3.14159 -3.72098e-16 -3.14159" />
<geometry>
<box size="0.025 0.044 0.003" />
</geometry>
<material name="u_side_small_material">
<color rgba="0.301961 0.301961 0.301961 1.0"/>
</material>
</visual>
<collision>
<origin xyz="0.0435 -0.05 0.10947" rpy="-1.5708 0.480536 3.14159" />
<geometry>
<cylinder length="0.02" radius="0.008" />
</geometry>
</collision>
<visual>
<origin xyz="0.0435 -0.05 0.10947" rpy="-1.5708 0.480536 3.14159" />
<geometry>
<cylinder length="0.02" radius="0.008" />
</geometry>
<material name="cleat_material">
<color rgba="0.301961 0.290196 0.262745 1.0"/>
</material>
</visual>
<collision>
<origin xyz="-1.73472e-17 -0.037 0.02834" rpy="-1.5708 1.5708 0" />
<geometry>
<box size="0.05 0.03 0.006" />
</geometry>
</collision>
<visual>
<origin xyz="-1.73472e-17 -0.037 0.02834" rpy="-1.5708 1.5708 0" />
<geometry>
<box size="0.05 0.03 0.006" />
</geometry>
<material name="u_base_motors_blocs_material">
<color rgba="0.301961 0.301961 0.301961 1.0"/>
</material>
</visual>
<collision>
<origin xyz="-0.0325 -0.05 0.10947" rpy="-1.5708 0.480536 3.14159" />
<geometry>
<cylinder length="0.02" radius="0.008" />
</geometry>
</collision>
<visual>
<origin xyz="-0.0325 -0.05 0.10947" rpy="-1.5708 0.480536 3.14159" />
<geometry>
<cylinder length="0.02" radius="0.008" />
</geometry>
<material name="cleat_material">
<color rgba="0.301961 0.290196 0.262745 1.0"/>
</material>
</visual>
<collision>
<origin xyz="-0.0325 -0.05 -0.03213" rpy="-1.5708 0.480536 -3.14159" />
<geometry>
<cylinder length="0.02" radius="0.008" />
</geometry>
</collision>
<visual>
<origin xyz="-0.0325 -0.05 -0.03213" rpy="-1.5708 0.480536 -3.14159" />
<geometry>
<cylinder length="0.02" radius="0.008" />
</geometry>
<material name="cleat_material">
<color rgba="0.301961 0.290196 0.262745 1.0"/>
</material>
</visual>
<collision>
<origin xyz="0 -0.017 0.0015" rpy="-1.0102e-28 4.49356e-30 2.31749e-31" />
<geometry>
<box size="0.027 0.042 0.003" />
</geometry>
</collision>
<visual>
<origin xyz="0 -0.017 0.0015" rpy="-1.0102e-28 4.49356e-30 2.31749e-31" />
<geometry>
<box size="0.027 0.042 0.003" />
</geometry>
<material name="u_side_small_with_trace_material">
<color rgba="0.301961 0.301961 0.301961 1.0"/>
</material>
</visual>
<collision>
<origin xyz="0.0055 -0.0415 0.03867" rpy="1.5708 7.48198e-16 -3.14159" />
<geometry>
<box size="0.09 0.155 0.003" />
</geometry>
</collision>
<visual>
<origin xyz="0.0055 -0.0415 0.03867" rpy="1.5708 7.48198e-16 -3.14159" />
<geometry>
<box size="0.09 0.155 0.003" />
</geometry>
<material name="foot_plate_material">
<color rgba="0.301961 0.301961 0.301961 1.0"/>
</material>
</visual>
<inertial>
<origin xyz="0.00468466 -0.0365779 0.0511529" rpy="0 0 0"/>
<mass value="0.239067" />
<inertia ixx="0.000644736" ixy="5.21256e-07"  ixz="-4.22638e-06" iyy="0.000780874" iyz="-2.65367e-05" izz="0.000195711" />
</inertial>
</link>

<link name="left_foot">
<inertial>
<origin xyz="0 0 0" rpy="0 0 0" />
<mass value="1e-9" />
<inertia ixx="0" ixy="0" ixz="0" iyy="0" iyz="0" izz="0" />
</inertial>
</link>
<joint name="left_foot_frame" type="floating">
<origin xyz="-2.498e-16 -0.06 0.02317" rpy="-1.5708 -1.5708 0" />
<parent link="left_foot_cleat_front_right" />
<child link="left_foot" />
<axis xyz="0 0 0"/>
</joint>

<joint name="left_ankle_roll" type="revolute">
<origin xyz="-0.0234 -7.71605e-15 -0.026" rpy="-3.14159 -1.5708 0" />
<parent link="mx106_block_mir_2" />
<child link="left_foot_cleat_front_right" />
<axis xyz="-0 -0 1"/>
<limit effort="10" velocity="6" />
<joint_properties friction="0.0"/>
</joint>

<joint name="left_ankle_pitch" type="revolute">
<origin xyz="1.56125e-17 -0.14 0" rpy="3.14159 1.02268e-16 3.09772e-16" />
<parent link="tibia_2" />
<child link="mx106_block_mir_2" />
<axis xyz="0 0 1"/>
<limit effort="10" velocity="6" />
<joint_properties friction="0.0"/>
</joint>

<joint name="left_knee" type="revolute">
<origin xyz="-3.16396e-14 -0.14 -1.9984e-14" rpy="1.64154e-15 1.88306e-16 -4.53915e-13" />
<parent link="left_knee_1" />
<child link="tibia_2" />
<axis xyz="-0 -0 -1"/>
<limit effort="10" velocity="6" />
<joint_properties friction="0.0"/>
</joint>

<joint name="left_hip_pitch" type="revolute">
<origin xyz="0.026 1.24623e-14 0.0234" rpy="2.88049e-13 -1.5708 0" />
<parent link="mx106_block_2" />
<child link="left_knee_1" />
<axis xyz="-0 -0 -1"/>
<limit effort="10" velocity="6" />
<joint_properties friction="0.0"/>
</joint>

<joint name="left_hip_roll" type="revolute">
<origin xyz="0.0234 -6.93889e-18 0.04" rpy="-1.5708 -2.8828e-13 1.5708" />
<parent link="u_block_2" />
<child link="mx106_block_2" />
<axis xyz="0 0 1"/>
<limit effort="10" velocity="6" />
<joint_properties friction="0.0"/>
</joint>

<joint name="left_hip_yaw" type="revolute">
<origin xyz="0.046375 -0.011254 -0.00349999" rpy="-3.14159 -3.13509e-16 1.5708" />
<parent link="tronc" />
<child link="u_block_2" />
<axis xyz="0 0 -1"/>
<limit effort="10" velocity="6" />
<joint_properties friction="0.0"/>
</joint>

<link name="u_shoulder_1">
<collision>
<origin xyz="1.33839e-33 -2.77556e-17 0.003" rpy="-7.22126e-40 4.46115e-31 1.76672e-31" />
<geometry>
<box size="0.047 0.0275 0.006" />
</geometry>
</collision>
<visual>
<origin xyz="1.33839e-33 -2.77556e-17 0.003" rpy="-7.22126e-40 4.46115e-31 1.76672e-31" />
<geometry>
<box size="0.047 0.0275 0.006" />
</geometry>
<material name="u_base_64_material">
<color rgba="0.301961 0.301961 0.301961 1.0"/>
</material>
</visual>
<inertial>
<origin xyz="2.844e-18 0.00486029 0.0167829" rpy="0 0 0"/>
<mass value="0.042898" />
<inertia ixx="1.57991e-05" ixy="1.59248e-20"  ixz="-7.27391e-21" iyy="2.84983e-05" iyz="-3.76137e-06" izz="2.50037e-05" />
</inertial>
</link>

<link name="left_humerus_1">
<collision>
<origin xyz="-1.18835e-36 -0.015 -0.0235" rpy="-3.69779e-32 5.7326e-32 1.84671e-33" />
<geometry>
<box size="0.029 0.05 0.04" />
</geometry>
</collision>
<visual>
<origin xyz="-1.18835e-36 -0.015 -0.0235" rpy="-3.69779e-32 5.7326e-32 1.84671e-33" />
<geometry>
<box size="0.029 0.05 0.04" />
</geometry>
<material name="mx64_material">
<color rgba="0.211765 0.211765 0.211765 1.0"/>
</material>
</visual>
<collision>
<origin xyz="-1.0044e-14 -0.092 -0.0391736" rpy="3.45444e-16 -1.5708 0" />
<geometry>
<box size="0.003 0.07 0.03" />
</geometry>
</collision>
<collision>
<origin xyz="-1.00284e-14 -0.054 -0.0231736" rpy="3.45444e-16 -1.5708 0" />
<geometry>
<box size="0.03 0.003 0.03" />
</geometry>
</collision>
<visual>
<origin xyz="-1.0044e-14 -0.092 -0.0391736" rpy="3.45444e-16 -1.5708 0" />
<geometry>
<box size="0.003 0.07 0.03" />
</geometry>
<material name="humerus_plate_material">
<color rgba="0.301961 0.301961 0.301961 1.0"/>
</material>
</visual>
<visual>
<origin xyz="-1.00284e-14 -0.054 -0.0231736" rpy="3.45444e-16 -1.5708 0" />
<geometry>
<box size="0.03 0.003 0.03" />
</geometry>
<material name="humerus_plate_material">
<color rgba="0.301961 0.301961 0.301961 1.0"/>
</material>
</visual>
<inertial>
<origin xyz="-0.000852636 -0.0376399 -0.0248523" rpy="0 0 0"/>
<mass value="0.214223" />
<inertia ixx="0.000347701" ixy="-1.37313e-05"  ixz="2.97277e-06" iyy="6.51166e-05" iyz="-8.64098e-06" izz="0.000333302" />
</inertial>
</link>

<link name="left_radius_1">
<collision>
<origin xyz="-6.28624e-33 -0.015 -0.0235" rpy="2.98462e-31 -6.96352e-30 4.98955e-29" />
<geometry>
<box size="0.029 0.05 0.04" />
</geometry>
</collision>
<visual>
<origin xyz="-6.28624e-33 -0.015 -0.0235" rpy="2.98462e-31 -6.96352e-30 4.98955e-29" />
<geometry>
<box size="0.029 0.05 0.04" />
</geometry>
<material name="mx64_material">
<color rgba="0.211765 0.211765 0.211765 1.0"/>
</material>
</visual>
<collision>
<origin xyz="0.018 -0.0985 -0.0235" rpy="-3.14159 -1.63297e-15 3.14159" />
<geometry>
<box size="0.003 0.085 0.03" />
</geometry>
</collision>
<collision>
<origin xyz="0.0075 -0.141 -0.0235" rpy="-3.14159 -1.63297e-15 3.14159" />
<geometry>
<cylinder length="0.03" radius="0.012" />
</geometry>
</collision>
<visual>
<origin xyz="0.018 -0.0985 -0.0235" rpy="-3.14159 -1.63297e-15 3.14159" />
<geometry>
<box size="0.003 0.085 0.03" />
</geometry>
<material name="radius_plate_material">
<color rgba="0.301961 0.301961 0.301961 1.0"/>
</material>
</visual>
<visual>
<origin xyz="0.0075 -0.141 -0.0235" rpy="-3.14159 -1.63297e-15 3.14159" />
<geometry>
<cylinder length="0.03" radius="0.012" />
</geometry>
<material name="radius_plate_material">
<color rgba="0.301961 0.301961 0.301961 1.0"/>
</material>
</visual>
<inertial>
<origin xyz="0.00253363 -0.0370397 -0.0238779" rpy="0 0 0"/>
<mass value="0.20688" />
<inertia ixx="0.00037903" ixy="3.04226e-05"  ixz="4.20803e-07" iyy="5.36268e-05" iyz="-4.7904e-07" izz="0.00036378" />
</inertial>
</link>

<joint name="left_elbow" type="revolute">
<origin xyz="0.0235 -0.112 -0.00167365" rpy="4.539e-13 1.5708 0" />
<parent link="left_humerus_1" />
<child link="left_radius_1" />
<axis xyz="0 0 1"/>
<limit effort="10" velocity="6" />
<joint_properties friction="0.0"/>
</joint>

<joint name="left_shoulder_roll" type="revolute">
<origin xyz="0.0225 0.03 0.035" rpy="-3.14159 -1.5708 0" />
<parent link="u_shoulder_1" />
<child link="left_humerus_1" />
<axis xyz="0 0 1"/>
<limit effort="10" velocity="6" />
<joint_properties friction="0.0"/>
</joint>

<joint name="left_shoulder_pitch" type="revolute">
<origin xyz="0.0735 -0.032127 0.1609" rpy="-1.5708 -4.55145e-13 -1.5708" />
<parent link="tronc" />
<child link="u_shoulder_1" />
<axis xyz="-0 -0 1"/>
<limit effort="10" velocity="6" />
<joint_properties friction="0.0"/>
</joint>

<link name="u_shoulder_2">
<collision>
<origin xyz="1.93337e-32 -5.76021e-37 0.003" rpy="1.92007e-34 -6.15323e-30 3.0697e-32" />
<geometry>
<box size="0.047 0.0275 0.006" />
</geometry>
</collision>
<visual>
<origin xyz="1.93337e-32 -5.76021e-37 0.003" rpy="1.92007e-34 -6.15323e-30 3.0697e-32" />
<geometry>
<box size="0.047 0.0275 0.006" />
</geometry>
<material name="u_base_64_material">
<color rgba="0.301961 0.301961 0.301961 1.0"/>
</material>
</visual>
<inertial>
<origin xyz="2.52739e-18 0.00486029 0.0167829" rpy="0 0 0"/>
<mass value="0.042898" />
<inertia ixx="1.57991e-05" ixy="6.77626e-21"  ixz="-1.35525e-20" iyy="2.84983e-05" iyz="-3.76137e-06" izz="2.50037e-05" />
</inertial>
</link>

<link name="right_humerus_1">
<collision>
<origin xyz="-1.12653e-14 -0.092 -0.04" rpy="-4.54407e-13 -1.5708 0" />
<geometry>
<box size="0.003 0.07 0.03" />
</geometry>
</collision>
<collision>
<origin xyz="6.01949e-15 -0.054 -0.024" rpy="-4.54407e-13 -1.5708 0" />
<geometry>
<box size="0.03 0.003 0.03" />
</geometry>
</collision>
<visual>
<origin xyz="-1.12653e-14 -0.092 -0.04" rpy="-4.54407e-13 -1.5708 0" />
<geometry>
<box size="0.003 0.07 0.03" />
</geometry>
<material name="humerus_plate_material">
<color rgba="0.301961 0.301961 0.301961 1.0"/>
</material>
</visual>
<visual>
<origin xyz="6.01949e-15 -0.054 -0.024" rpy="-4.54407e-13 -1.5708 0" />
<geometry>
<box size="0.03 0.003 0.03" />
</geometry>
<material name="humerus_plate_material">
<color rgba="0.301961 0.301961 0.301961 1.0"/>
</material>
</visual>
<collision>
<origin xyz="-1.8006e-34 -0.015 -0.0235" rpy="-6.21528e-33 -3.83316e-31 7.07151e-34" />
<geometry>
<box size="0.029 0.05 0.04" />
</geometry>
</collision>
<visual>
<origin xyz="-1.8006e-34 -0.015 -0.0235" rpy="-6.21528e-33 -3.83316e-31 7.07151e-34" />
<geometry>
<box size="0.029 0.05 0.04" />
</geometry>
<material name="mx64_material">
<color rgba="0.211765 0.211765 0.211765 1.0"/>
</material>
</visual>
<inertial>
<origin xyz="0.00104402 -0.0376399 -0.0253663" rpy="0 0 0"/>
<mass value="0.214223" />
<inertia ixx="0.000347788" ixy="1.17167e-05"  ixz="-1.66771e-06" iyy="6.5125e-05" iyz="-1.16648e-05" izz="0.000333224" />
</inertial>
</link>

<link name="right_radius_1">
<collision>
<origin xyz="-0.018 -0.0985 -0.0235" rpy="2.95826e-16 1.82781e-15 2.61184e-16" />
<geometry>
<box size="0.003 0.085 0.03" />
</geometry>
</collision>
<collision>
<origin xyz="-0.0075 -0.141 -0.0235" rpy="2.95826e-16 1.82781e-15 2.61184e-16" />
<geometry>
<cylinder length="0.03" radius="0.012" />
</geometry>
</collision>
<visual>
<origin xyz="-0.018 -0.0985 -0.0235" rpy="2.95826e-16 1.82781e-15 2.61184e-16" />
<geometry>
<box size="0.003 0.085 0.03" />
</geometry>
<material name="radius_plate_material">
<color rgba="0.301961 0.301961 0.301961 1.0"/>
</material>
</visual>
<visual>
<origin xyz="-0.0075 -0.141 -0.0235" rpy="2.95826e-16 1.82781e-15 2.61184e-16" />
<geometry>
<cylinder length="0.03" radius="0.012" />
</geometry>
<material name="radius_plate_material">
<color rgba="0.301961 0.301961 0.301961 1.0"/>
</material>
</visual>
<collision>
<origin xyz="1.54086e-34 -0.015 -0.0235" rpy="-9.13831e-31 2.44997e-30 -2.05357e-33" />
<geometry>
<box size="0.029 0.05 0.04" />
</geometry>
</collision>
<visual>
<origin xyz="1.54086e-34 -0.015 -0.0235" rpy="-9.13831e-31 2.44997e-30 -2.05357e-33" />
<geometry>
<box size="0.029 0.05 0.04" />
</geometry>
<material name="mx64_material">
<color rgba="0.211765 0.211765 0.211765 1.0"/>
</material>
</visual>
<inertial>
<origin xyz="-0.00233545 -0.0370397 -0.0236354" rpy="0 0 0"/>
<mass value="0.20688" />
<inertia ixx="0.000379056" ixy="-3.24125e-05"  ixz="7.54143e-07" iyy="5.38522e-05" iyz="-9.99715e-09" izz="0.00036398" />
</inertial>
</link>

<joint name="right_elbow" type="revolute">
<origin xyz="-0.0235 -0.112 -0.0025" rpy="-9.07649e-13 -1.5708 0" />
<parent link="right_humerus_1" />
<child link="right_radius_1" />
<axis xyz="-0 -0 -1"/>
<limit effort="10" velocity="6" />
<joint_properties friction="0.0"/>
</joint>

<joint name="right_shoulder_roll" type="revolute">
<origin xyz="-0.0225 0.03 0.035" rpy="3.14159 1.5708 0" />
<parent link="u_shoulder_2" />
<child link="right_humerus_1" />
<axis xyz="0 0 1"/>
<limit effort="10" velocity="6" />
<joint_properties friction="0.0"/>
</joint>

<joint name="right_shoulder_pitch" type="revolute">
<origin xyz="-0.0740868 -0.032127 0.1609" rpy="-1.5708 -6.38201e-16 1.5708" />
<parent link="tronc" />
<child link="u_shoulder_2" />
<axis xyz="0 0 -1"/>
<limit effort="10" velocity="6" />
<joint_properties friction="0.0"/>
</joint>

<link name="u_neck_1">
<collision>
<origin xyz="3.15544e-30 -2.10311e-43 0.003" rpy="-2.95823e-31 8.24478e-32 -3.20328e-30" />
<geometry>
<box size="0.047 0.0275 0.006" />
</geometry>
</collision>
<visual>
<origin xyz="3.15544e-30 -2.10311e-43 0.003" rpy="-2.95823e-31 8.24478e-32 -3.20328e-30" />
<geometry>
<box size="0.047 0.0275 0.006" />
</geometry>
<material name="u_base_64_material">
<color rgba="0.301961 0.301961 0.301961 1.0"/>
</material>
</visual>
<collision>
<origin xyz="-0.025 -2.70617e-16 0.023" rpy="1.5708 -3.29254e-16 1.5708" />
<geometry>
<box size="0.025 0.044 0.003" />
</geometry>
</collision>
<visual>
<origin xyz="-0.025 -2.70617e-16 0.023" rpy="1.5708 -3.29254e-16 1.5708" />
<geometry>
<box size="0.025 0.044 0.003" />
</geometry>
<material name="u_side_small_material">
<color rgba="0.301961 0.301961 0.301961 1.0"/>
</material>
</visual>
<collision>
<origin xyz="0.025 -2.48065e-16 0.023" rpy="1.5708 7.60838e-16 -1.5708" />
<geometry>
<box size="0.025 0.044 0.003" />
</geometry>
</collision>
<visual>
<origin xyz="0.025 -2.48065e-16 0.023" rpy="1.5708 7.60838e-16 -1.5708" />
<geometry>
<box size="0.025 0.044 0.003" />
</geometry>
<material name="u_side_small_material">
<color rgba="0.301961 0.301961 0.301961 1.0"/>
</material>
</visual>
<inertial>
<origin xyz="-2.17085e-17 -1.29969e-16 0.0128918" rpy="0 0 0"/>
<mass value="0.0362092" />
<inertia ixx="6.41955e-06" ixy="4.27371e-12"  ixz="3.64701e-13" iyy="2.38199e-05" iyz="4.49501e-20" izz="2.02973e-05" />
</inertial>
</link>

<link name="head_1">
<collision>
<origin xyz="-0.0375 -0.0698 -0.005" rpy="-3.14159 9.99201e-16 1.22132e-13" />
<geometry>
<box size="0.008 0.05 0.003" />
</geometry>
</collision>
<collision>
<origin xyz="-6.61757e-15 -0.0698 -0.005" rpy="-3.14159 9.99201e-16 1.22132e-13" />
<geometry>
<box size="0.008 0.05 0.003" />
</geometry>
</collision>
<collision>
<origin xyz="0.0375 -0.0698 -0.005" rpy="-3.14159 9.99201e-16 1.22132e-13" />
<geometry>
<box size="0.008 0.05 0.003" />
</geometry>
</collision>
<collision>
<origin xyz="-9.43298e-15 -0.0468 -0.005" rpy="-3.14159 9.99201e-16 1.22132e-13" />
<geometry>
<box size="0.083 0.008 0.003" />
</geometry>
</collision>
<collision>
<origin xyz="-6.61757e-15 -0.0698 -0.005" rpy="-3.14159 9.99201e-16 1.22132e-13" />
<geometry>
<box size="0.083 0.008 0.003" />
</geometry>
</collision>
<collision>
<origin xyz="-3.80216e-15 -0.0928 -0.005" rpy="-3.14159 9.99201e-16 1.22132e-13" />
<geometry>
<box size="0.083 0.008 0.003" />
</geometry>
</collision>
<visual>
<origin xyz="-0.0375 -0.0698 -0.005" rpy="-3.14159 9.99201e-16 1.22132e-13" />
<geometry>
<box size="0.008 0.05 0.003" />
</geometry>
<material name="head_plate_material">
<color rgba="0.701961 0.682353 0.623529 1.0"/>
</material>
</visual>
<visual>
<origin xyz="-6.61757e-15 -0.0698 -0.005" rpy="-3.14159 9.99201e-16 1.22132e-13" />
<geometry>
<box size="0.008 0.05 0.003" />
</geometry>
<material name="head_plate_material">
<color rgba="0.701961 0.682353 0.623529 1.0"/>
</material>
</visual>
<visual>
<origin xyz="0.0375 -0.0698 -0.005" rpy="-3.14159 9.99201e-16 1.22132e-13" />
<geometry>
<box size="0.008 0.05 0.003" />
</geometry>
<material name="head_plate_material">
<color rgba="0.701961 0.682353 0.623529 1.0"/>
</material>
</visual>
<visual>
<origin xyz="-9.43298e-15 -0.0468 -0.005" rpy="-3.14159 9.99201e-16 1.22132e-13" />
<geometry>
<box size="0.083 0.008 0.003" />
</geometry>
<material name="head_plate_material">
<color rgba="0.701961 0.682353 0.623529 1.0"/>
</material>
</visual>
<visual>
<origin xyz="-6.61757e-15 -0.0698 -0.005" rpy="-3.14159 9.99201e-16 1.22132e-13" />
<geometry>
<box size="0.083 0.008 0.003" />
</geometry>
<material name="head_plate_material">
<color rgba="0.701961 0.682353 0.623529 1.0"/>
</material>
</visual>
<visual>
<origin xyz="-3.80216e-15 -0.0928 -0.005" rpy="-3.14159 9.99201e-16 1.22132e-13" />
<geometry>
<box size="0.083 0.008 0.003" />
</geometry>
<material name="head_plate_material">
<color rgba="0.701961 0.682353 0.623529 1.0"/>
</material>
</visual>
<collision>
<origin xyz="0.00496822 -0.06905 -0.0235" rpy="1.5708 -1.5708 0" />
<geometry>
<box size="0.03 0.03 0.028" />
</geometry>
</collision>
<visual>
<origin xyz="0.00496822 -0.06905 -0.0235" rpy="1.5708 -1.5708 0" />
<geometry>
<box size="0.03 0.03 0.028" />
</geometry>
<material name="ptgrey_camera_material">
<color rgba="0.4 0.4 0.4 1.0"/>
</material>
</visual>
<collision>
<origin xyz="-0.0375 -0.0698 -0.042" rpy="-3.14159 1.16573e-15 1.27614e-13" />
<geometry>
<box size="0.008 0.05 0.003" />
</geometry>
</collision>
<collision>
<origin xyz="-6.45418e-15 -0.0698 -0.042" rpy="-3.14159 1.16573e-15 1.27614e-13" />
<geometry>
<box size="0.008 0.05 0.003" />
</geometry>
</collision>
<collision>
<origin xyz="0.0375 -0.0698 -0.042" rpy="-3.14159 1.16573e-15 1.27614e-13" />
<geometry>
<box size="0.008 0.05 0.003" />
</geometry>
</collision>
<collision>
<origin xyz="-9.39695e-15 -0.0468 -0.042" rpy="-3.14159 1.16573e-15 1.27614e-13" />
<geometry>
<box size="0.083 0.008 0.003" />
</geometry>
</collision>
<collision>
<origin xyz="-6.45418e-15 -0.0698 -0.042" rpy="-3.14159 1.16573e-15 1.27614e-13" />
<geometry>
<box size="0.083 0.008 0.003" />
</geometry>
</collision>
<collision>
<origin xyz="-3.5114e-15 -0.0928 -0.042" rpy="-3.14159 1.16573e-15 1.27614e-13" />
<geometry>
<box size="0.083 0.008 0.003" />
</geometry>
</collision>
<visual>
<origin xyz="-0.0375 -0.0698 -0.042" rpy="-3.14159 1.16573e-15 1.27614e-13" />
<geometry>
<box size="0.008 0.05 0.003" />
</geometry>
<material name="head_plate_material">
<color rgba="0.701961 0.682353 0.623529 1.0"/>
</material>
</visual>
<visual>
<origin xyz="-6.45418e-15 -0.0698 -0.042" rpy="-3.14159 1.16573e-15 1.27614e-13" />
<geometry>
<box size="0.008 0.05 0.003" />
</geometry>
<material name="head_plate_material">
<color rgba="0.701961 0.682353 0.623529 1.0"/>
</material>
</visual>
<visual>
<origin xyz="0.0375 -0.0698 -0.042" rpy="-3.14159 1.16573e-15 1.27614e-13" />
<geometry>
<box size="0.008 0.05 0.003" />
</geometry>
<material name="head_plate_material">
<color rgba="0.701961 0.682353 0.623529 1.0"/>
</material>
</visual>
<visual>
<origin xyz="-9.39695e-15 -0.0468 -0.042" rpy="-3.14159 1.16573e-15 1.27614e-13" />
<geometry>
<box size="0.083 0.008 0.003" />
</geometry>
<material name="head_plate_material">
<color rgba="0.701961 0.682353 0.623529 1.0"/>
</material>
</visual>
<visual>
<origin xyz="-6.45418e-15 -0.0698 -0.042" rpy="-3.14159 1.16573e-15 1.27614e-13" />
<geometry>
<box size="0.083 0.008 0.003" />
</geometry>
<material name="head_plate_material">
<color rgba="0.701961 0.682353 0.623529 1.0"/>
</material>
</visual>
<visual>
<origin xyz="-3.5114e-15 -0.0928 -0.042" rpy="-3.14159 1.16573e-15 1.27614e-13" />
<geometry>
<box size="0.083 0.008 0.003" />
</geometry>
<material name="head_plate_material">
<color rgba="0.701961 0.682353 0.623529 1.0"/>
</material>
</visual>
<collision>
<origin xyz="8.35459e-33 -0.015 -0.0235" rpy="4.00673e-32 2.86713e-30 -1.80961e-30" />
<geometry>
<box size="0.029 0.05 0.04" />
</geometry>
</collision>
<visual>
<origin xyz="8.35459e-33 -0.015 -0.0235" rpy="4.00673e-32 2.86713e-30 -1.80961e-30" />
<geometry>
<box size="0.029 0.05 0.04" />
</geometry>
<material name="mx64_material">
<color rgba="0.211765 0.211765 0.211765 1.0"/>
</material>
</visual>
<inertial>
<origin xyz="0.00127384 -0.0343518 -0.0237209" rpy="0 0 0"/>
<mass value="0.228227" />
<inertia ixx="0.000236902" ixy="9.17476e-06"  ixz="5.76668e-07" iyy="8.77015e-05" iyz="-3.39163e-07" izz="0.000235668" />
</inertial>
</link>

<link name="camera">
<inertial>
<origin xyz="0 0 0" rpy="0 0 0" />
<mass value="1e-9" />
<inertia ixx="0" ixy="0" ixz="0" iyy="0" iyz="0" izz="0" />
</inertial>
</link>
<joint name="camera_frame" type="floating">
<origin xyz="0.024933 -0.06905 -0.0235" rpy="-1.24392e-13 1.5708 0" />
<parent link="head_1" />
<child link="camera" />
<axis xyz="0 0 0"/>
</joint>

<link name="vive">
<inertial>
<origin xyz="0 0 0" rpy="0 0 0" />
<mass value="1e-9" />
<inertia ixx="0" ixy="0" ixz="0" iyy="0" iyz="0" izz="0" />
</inertial>
</link>
<joint name="vive_frame" type="floating">
<origin xyz="-2.95597e-15 -0.0998 -0.0235" rpy="-1.5708 -1.16113e-15 -3.14159" />
<parent link="head_1" />
<child link="vive" />
<axis xyz="0 0 0"/>
</joint>

<joint name="head_pitch" type="revolute">
<origin xyz="-0.0235 -4.85723e-16 0.04" rpy="-1.5708 -7.60838e-16 1.5708" />
<parent link="u_neck_1" />
<child link="head_1" />
<axis xyz="0 0 1"/>
<limit effort="10" velocity="6" />
<joint_properties friction="0.0"/>
</joint>

<joint name="head_yaw" type="revolute">
<origin xyz="2.67834e-14 -0.037127 0.1858" rpy="1.12133e-14 -2.28241e-15 -3.14159" />
<parent link="tronc" />
<child link="u_neck_1" />
<axis xyz="-0 -0 1"/>
<limit effort="10" velocity="6" />
<joint_properties friction="0.0"/>
</joint>


</robot>
